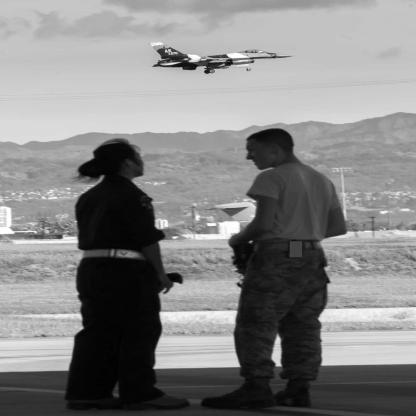C17: (205, 203, 416, 239)
F16: (149, 43, 298, 75)
